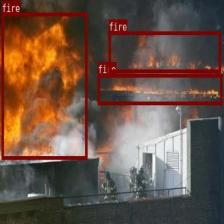fire: (1, 13, 87, 159), (108, 31, 220, 72), (97, 74, 222, 104)
